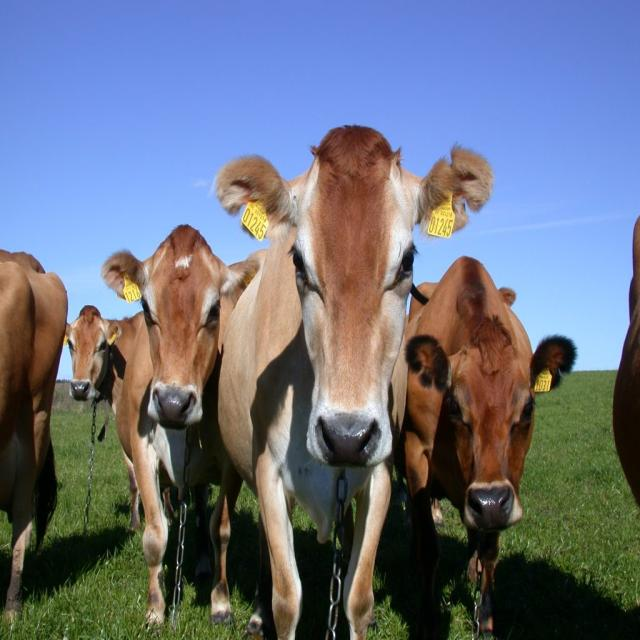cowFace: (209, 126, 484, 478), (408, 297, 578, 543), (101, 207, 262, 433), (65, 301, 130, 421)
